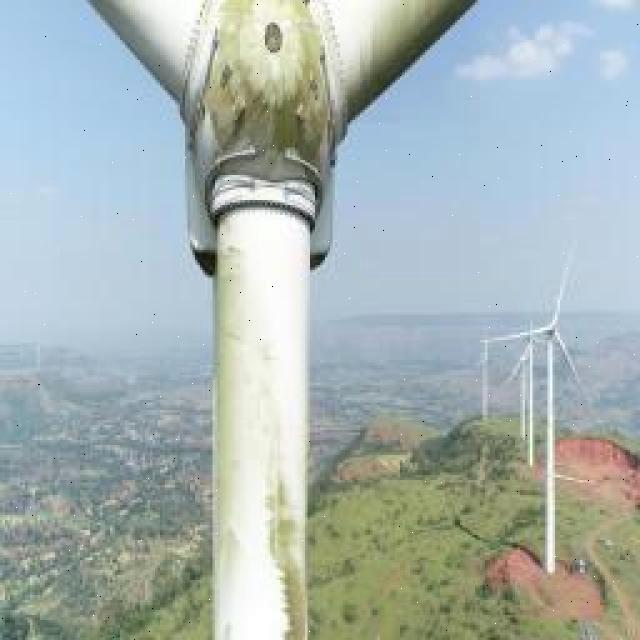Dirt: (210, 227, 305, 640)
